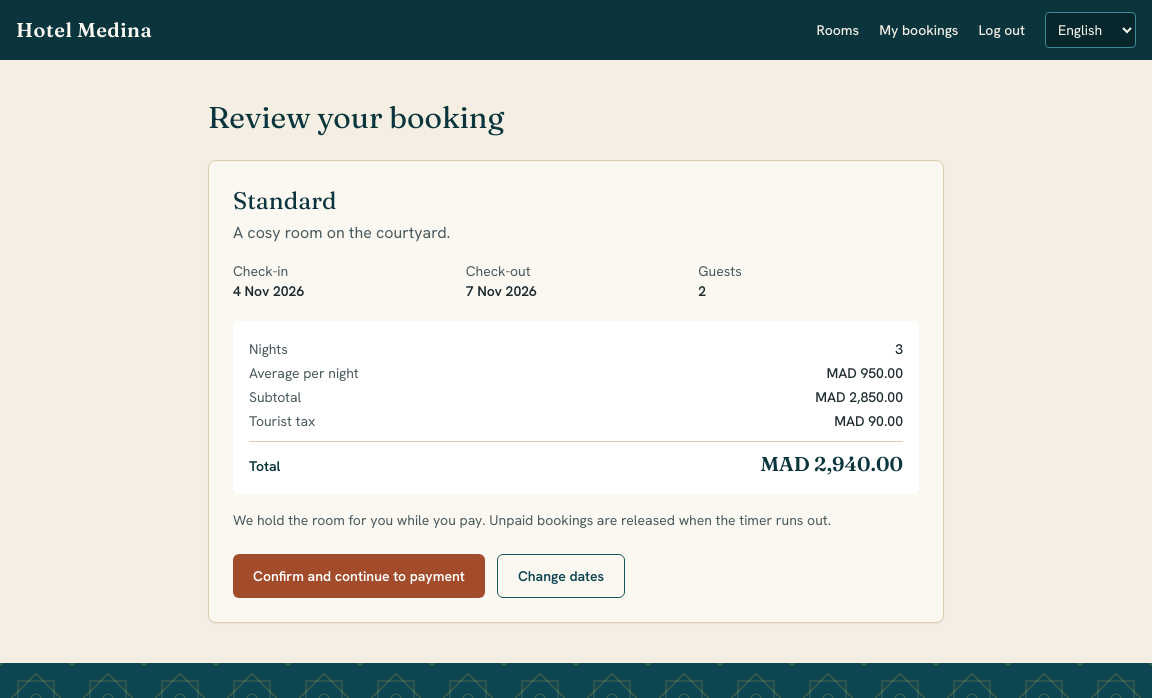
Test: booking flow › a double click sends a single request
Click the button "Confirm and continue to payment".
click(359, 576)  # box [233, 554, 485, 598]
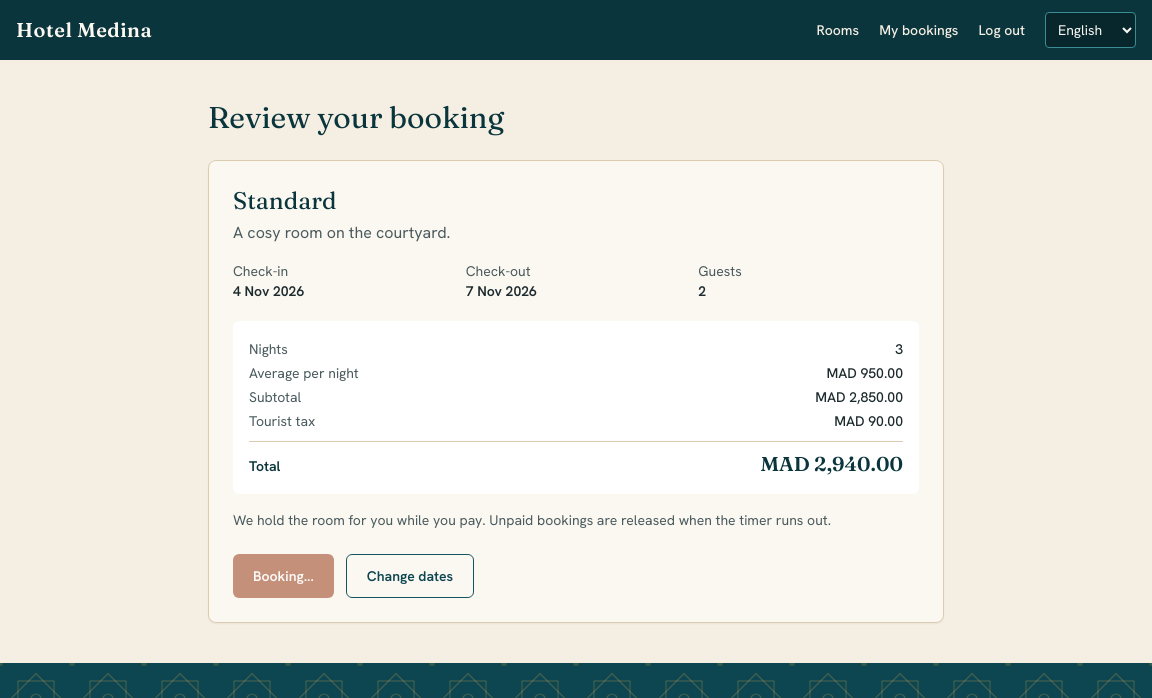
Click the button named "Confirm and continue to payment".
click(283, 576)  # box [233, 554, 334, 598]
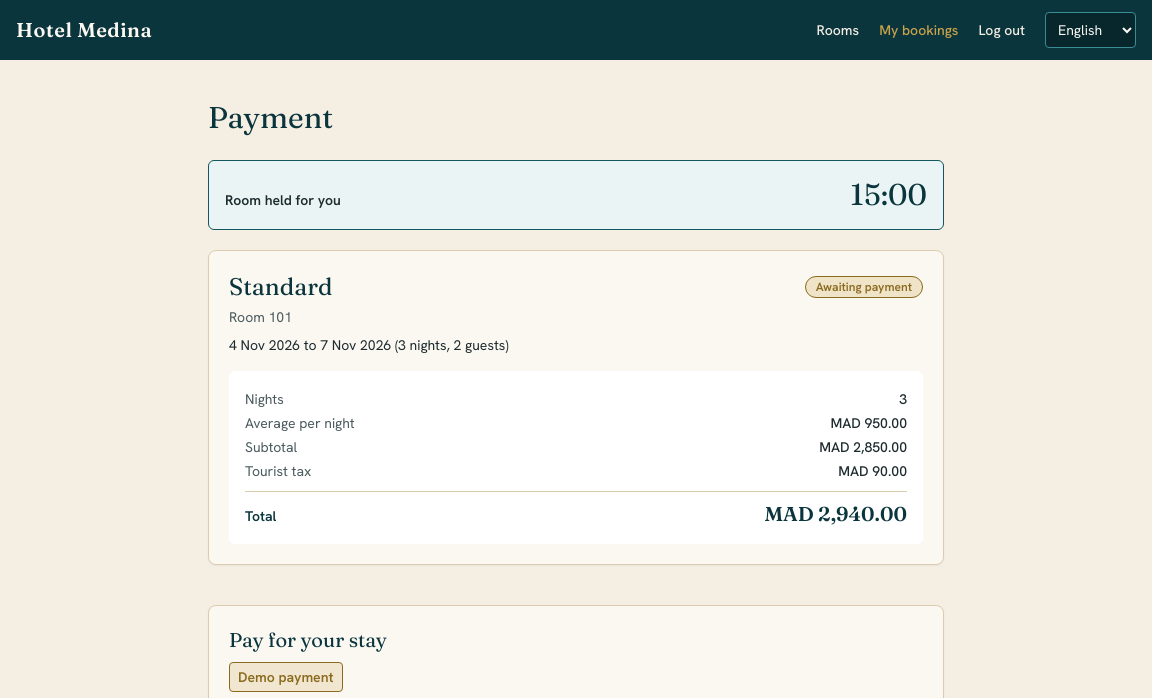
Expected: the heading "Payment" is shown, [208, 99, 333, 136]
